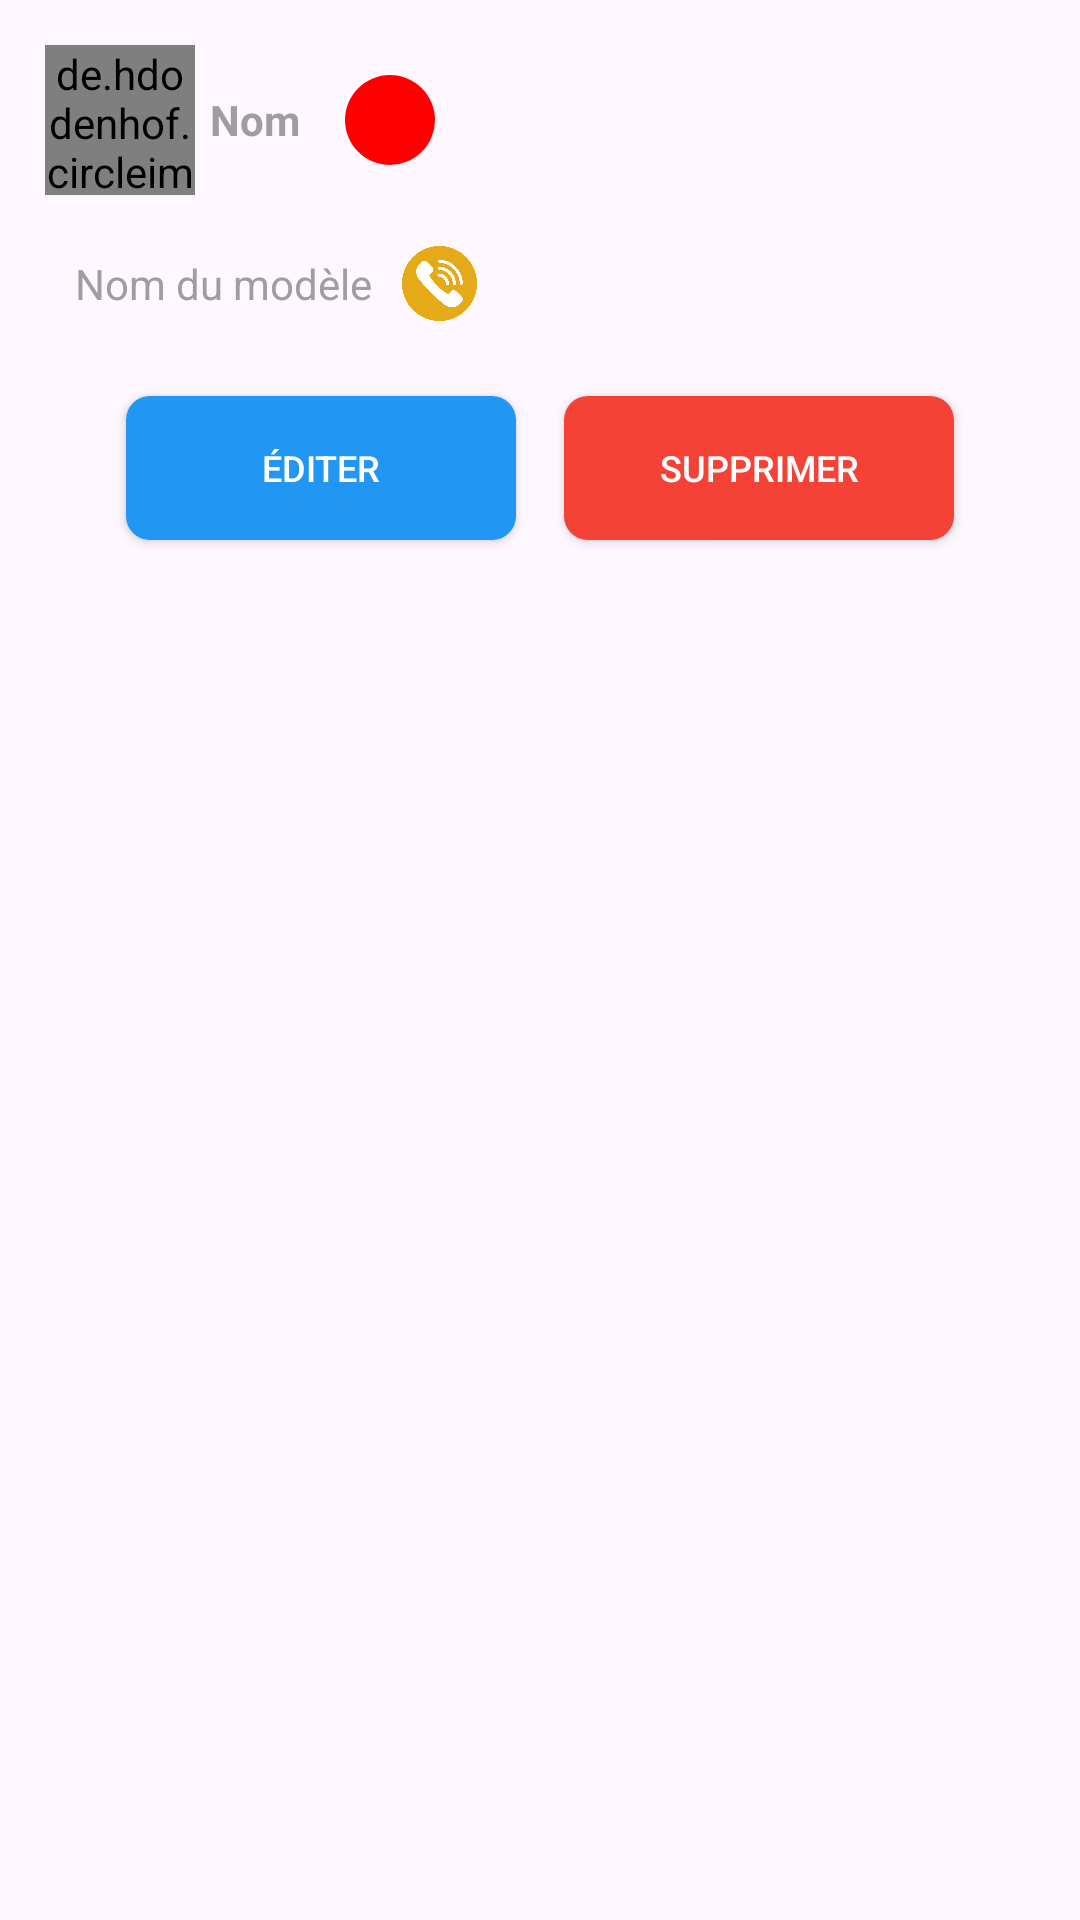

Where icons sit on this 1080px x 1920px app screen, as (x1, y1, x2, y2):
tel: (402, 246, 477, 321)
